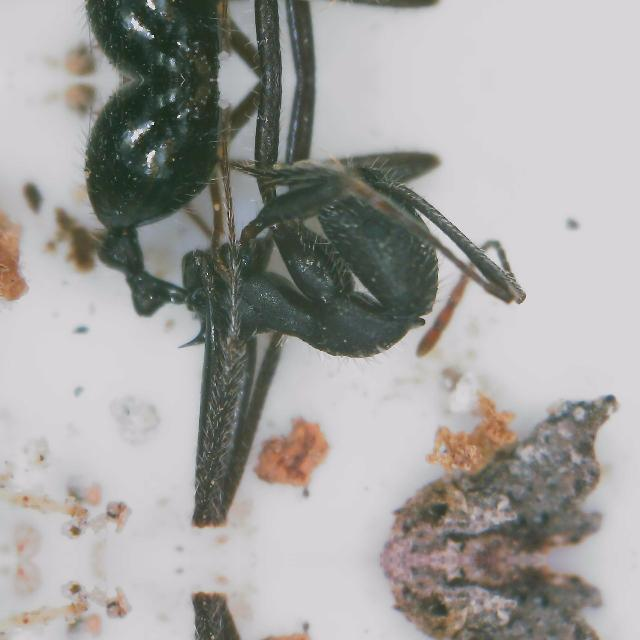Apheanogaster: (1, 83, 575, 513)
